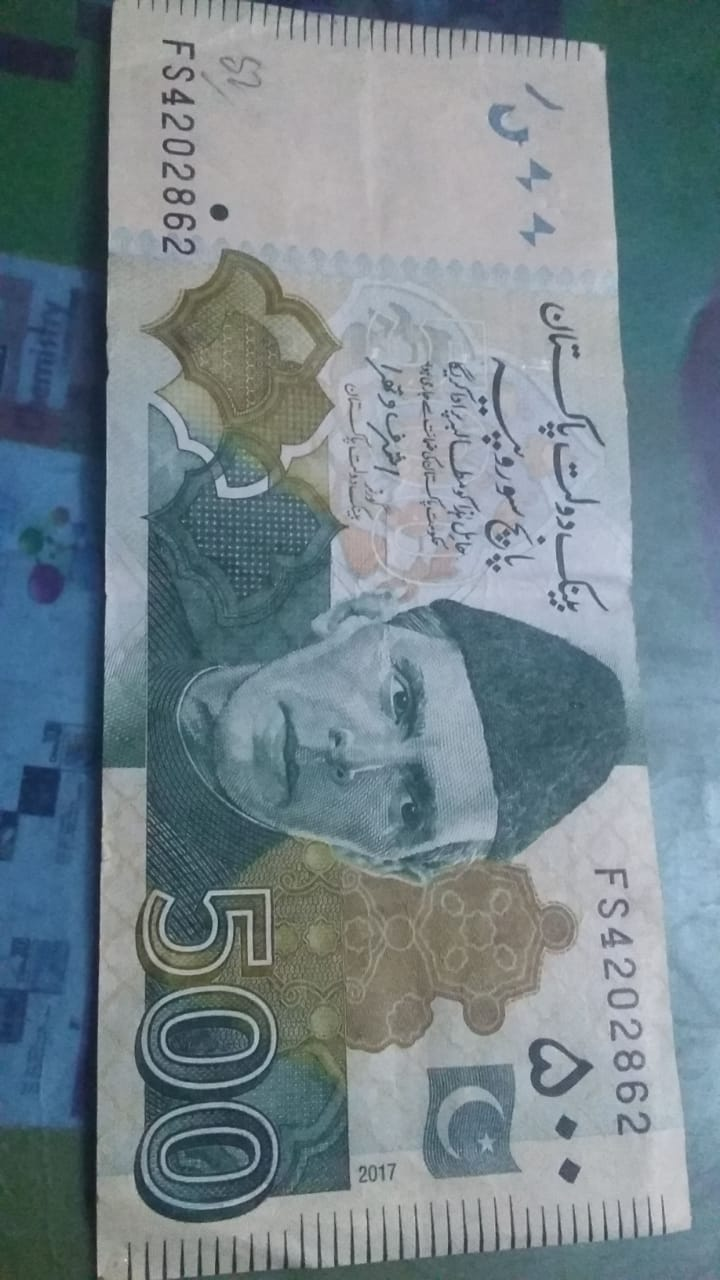500 rupee: (99, 22, 687, 1272)
